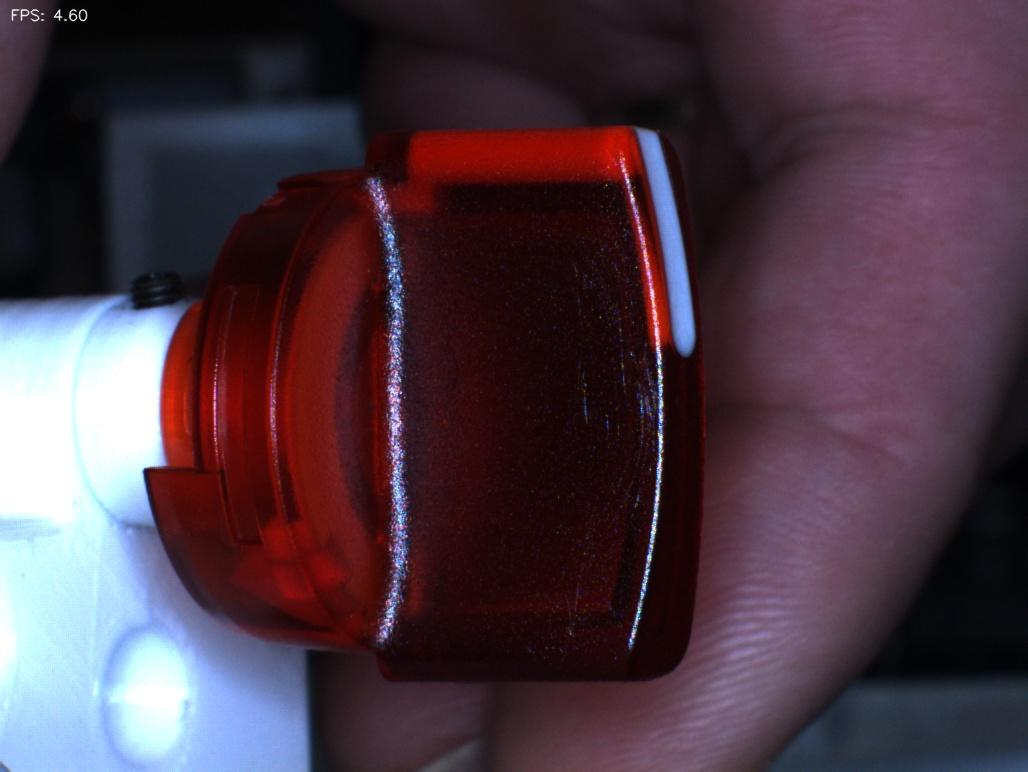Givrage: (568, 310, 667, 520)
